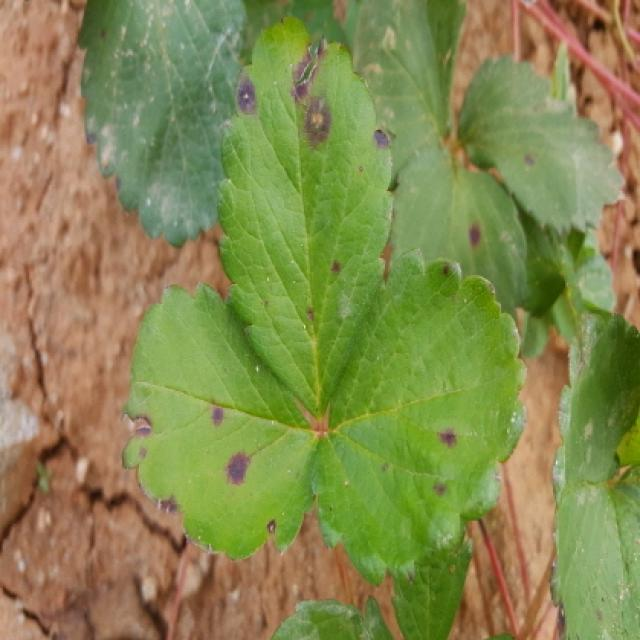Leaf Spot: (311, 248, 532, 584), (215, 15, 396, 422), (120, 283, 324, 561)
